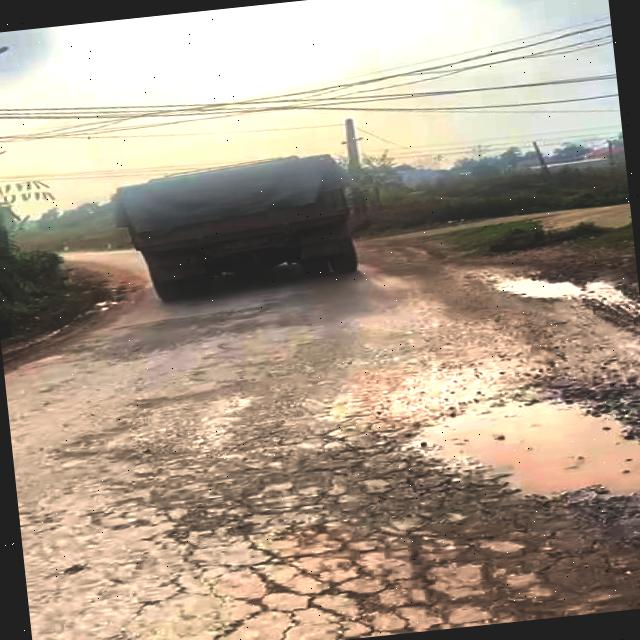pothole: (403, 374, 640, 563)
